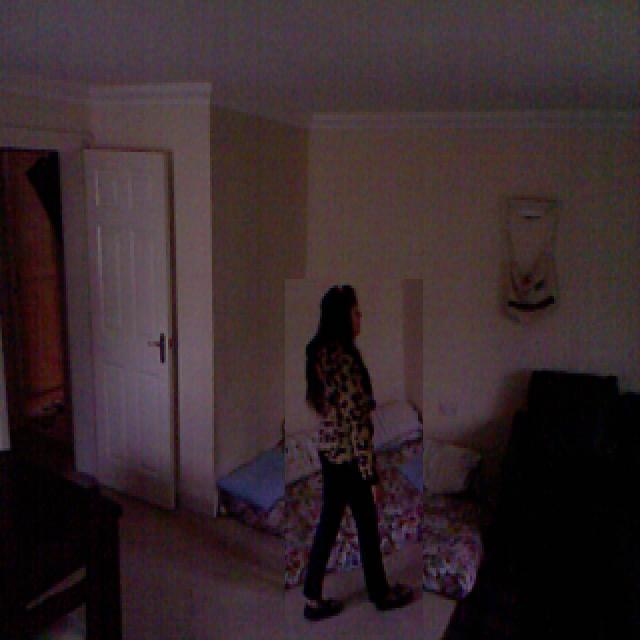NotFall: (291, 279, 422, 634)
